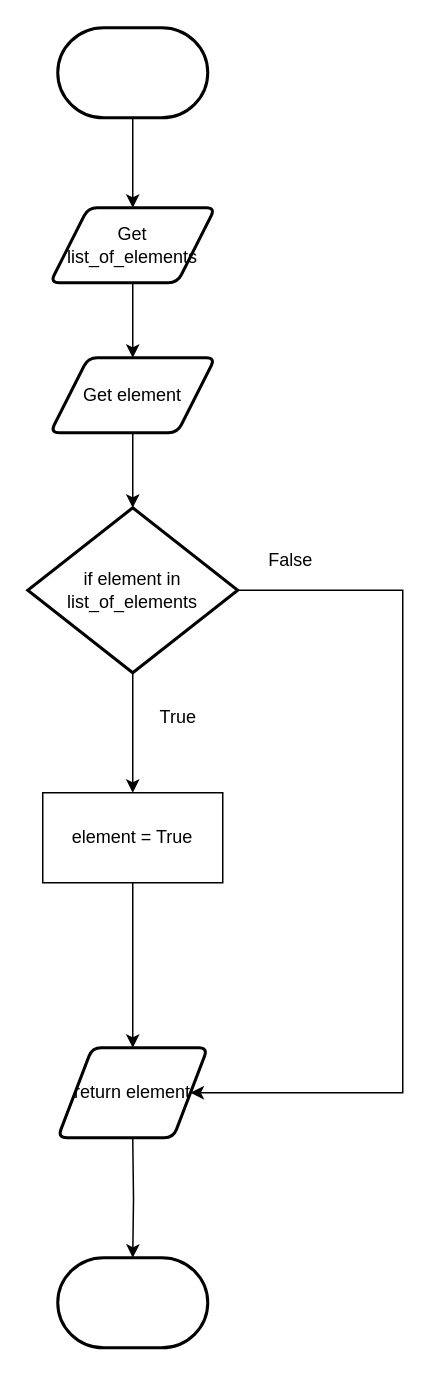
Image size: 441x1374. Some labels were removed from this diagram. Here are the shapes that lost their labels. From the top down, the box of each, then its label:
(56, 26, 208, 118): Start
(56, 1256, 208, 1348): Stop
